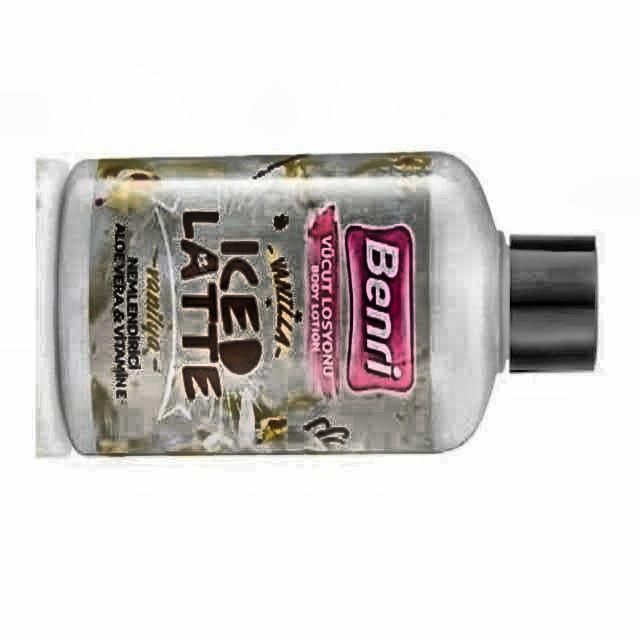plastic: (58, 152, 598, 454)
